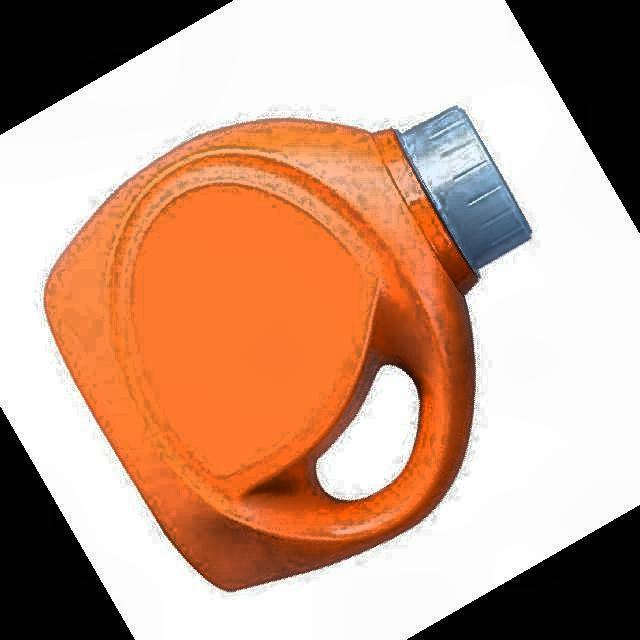plastic: (45, 108, 530, 589)
